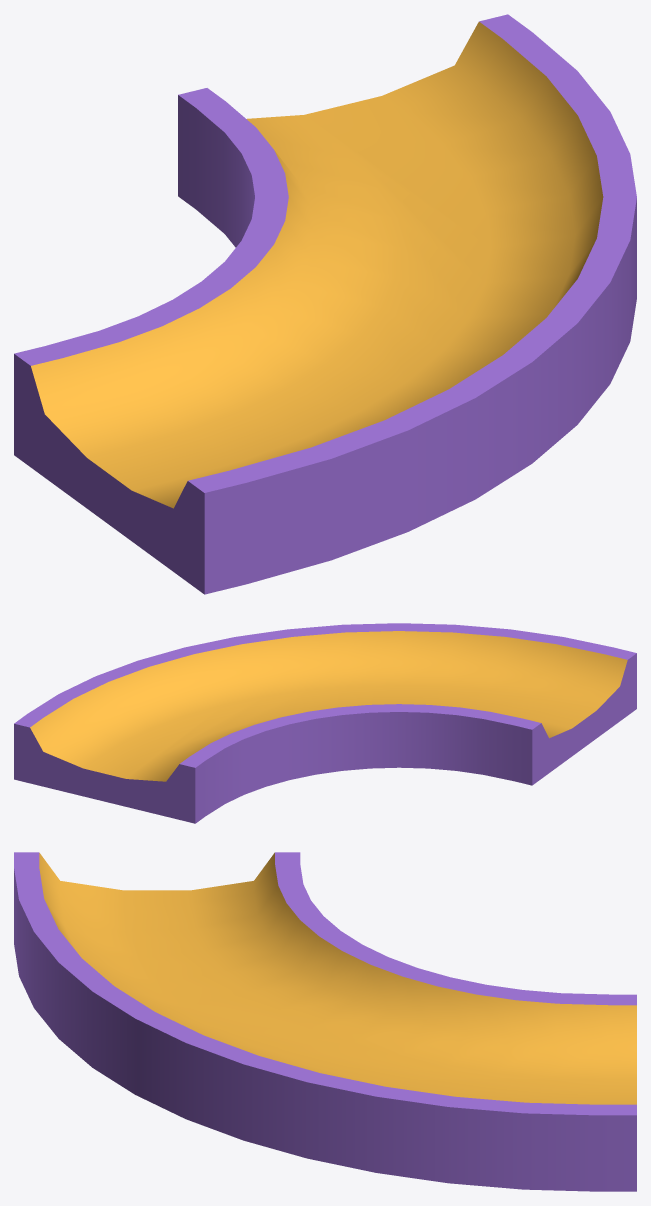
Rendered from curve-wide-large.glb.
3 renders of one model, top to bottom at view 1: azimuth 30°, elevation 25°; view 2: azimuth 150°, elevation 25°; view 3: azimuth 270°, elevation 25°, orthographic. The views are drawn at different scales.
Parts seen in each view (by area): view 1: curve-wide-large; view 2: curve-wide-large; view 3: curve-wide-large.
Part boxes in pixels (x1,y1,x2,y2): curve-wide-large: (14, 14, 636, 594); curve-wide-large: (14, 623, 636, 823); curve-wide-large: (14, 852, 636, 1191).
Size of the model in its own units: 3.7 by 0.5 by 3.7.
1 material, 1 textured.
